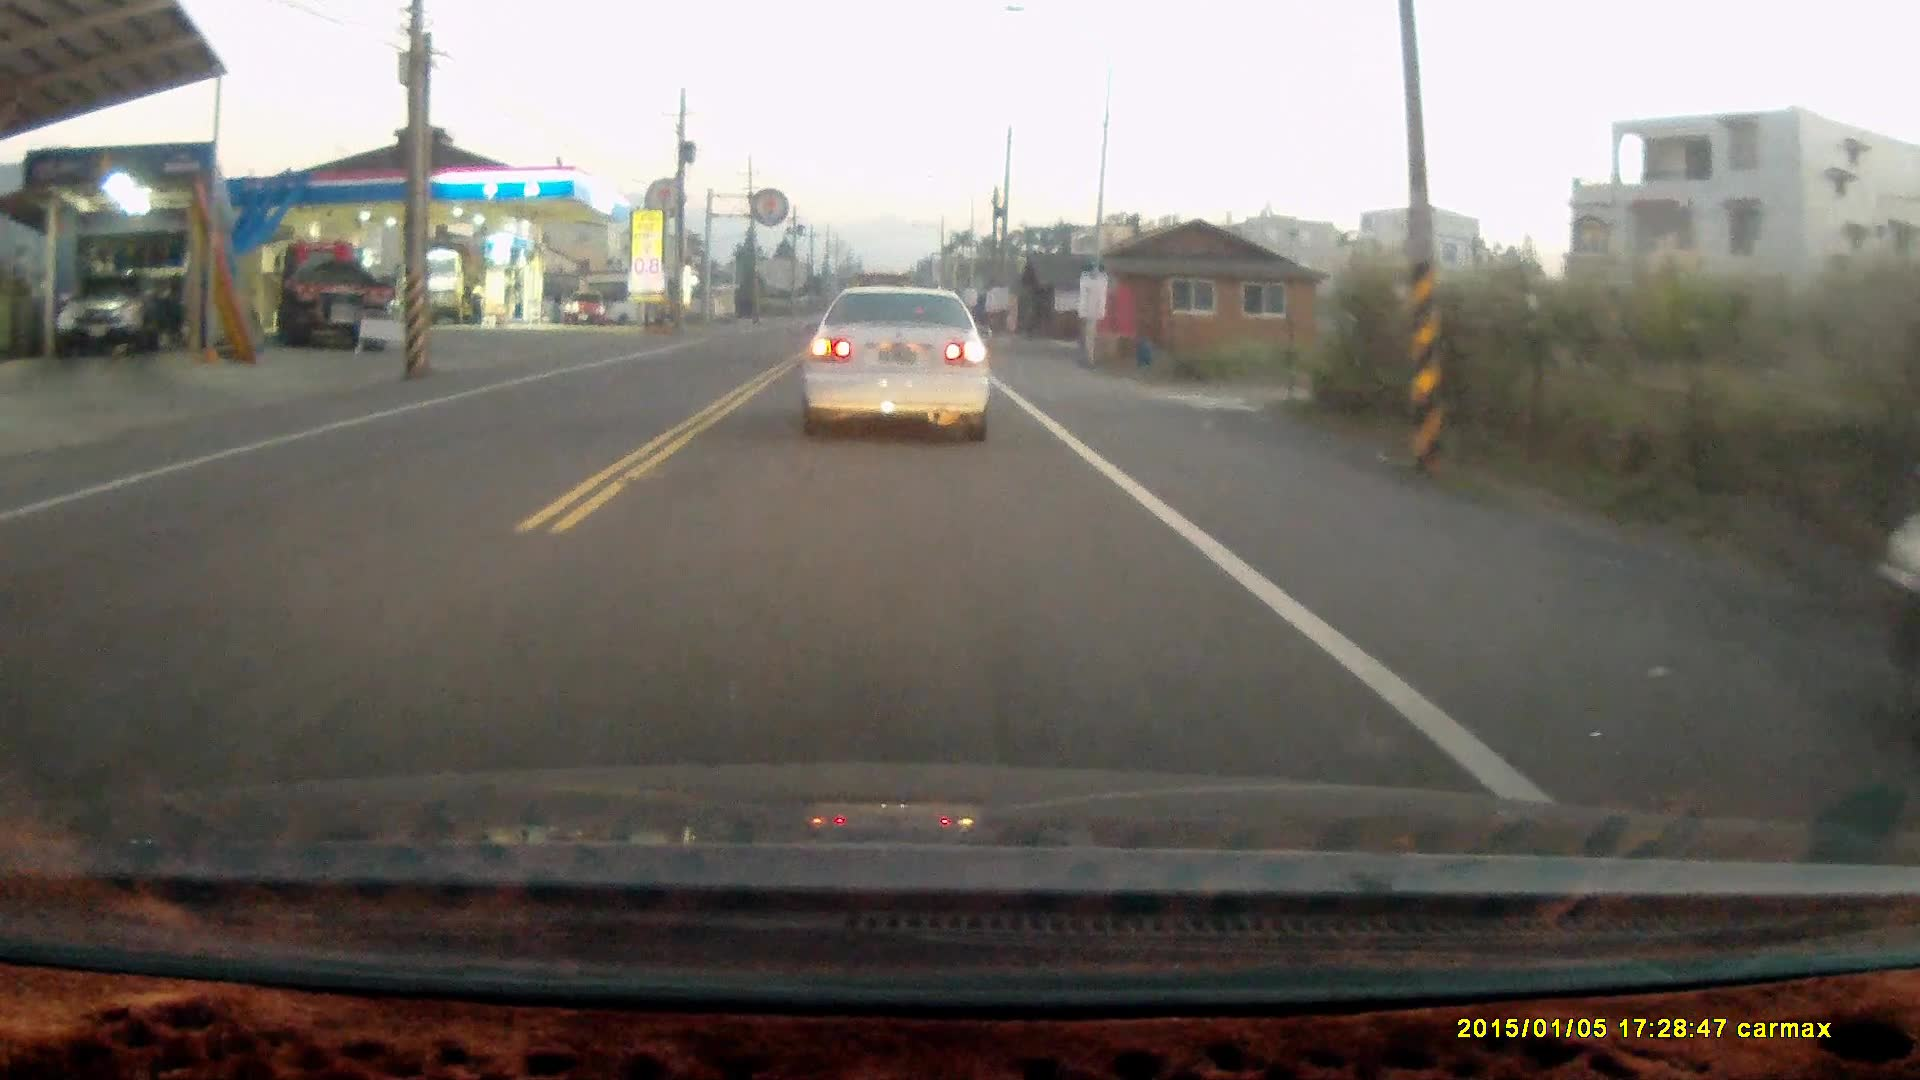pedestrian: (466, 278, 486, 322)
vehicle: (795, 288, 995, 450), (273, 244, 395, 354), (396, 240, 482, 324), (565, 292, 608, 326)
